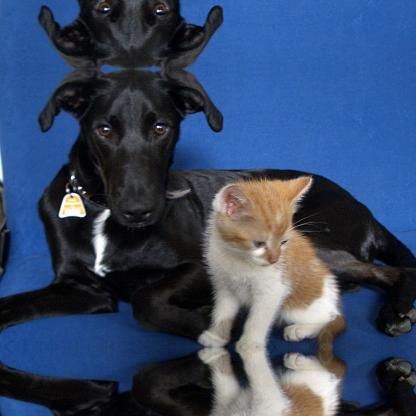Dog: (0, 67, 415, 327), (0, 0, 415, 69)
